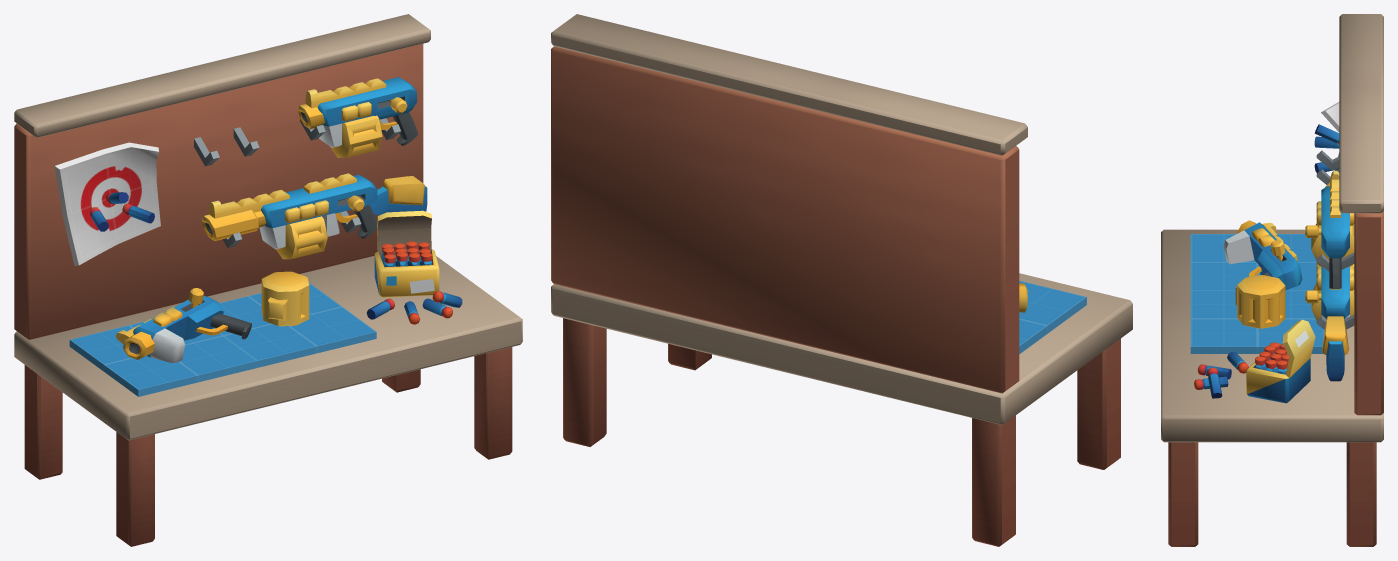
The model's file is workbench-decorated.glb.
The picture shows the model from 3 angles, left to right: view 1: azimuth 30°, elevation 25°; view 2: azimuth 150°, elevation 25°; view 3: azimuth 270°, elevation 25°; orthographic projection. The views are drawn at different scales.
Parts seen in each view (by area): view 1: Workbench_Decorated; view 2: Workbench_Decorated; view 3: Workbench_Decorated.
Boxes of the visible parts, x1,y1,x2,y2 form: Workbench_Decorated: (14,14,522,546); Workbench_Decorated: (551,14,1132,546); Workbench_Decorated: (1161,14,1383,546).
Bounding box in the file's own units: 3 × 2.6 × 1.5.
1 material, 1 textured.
